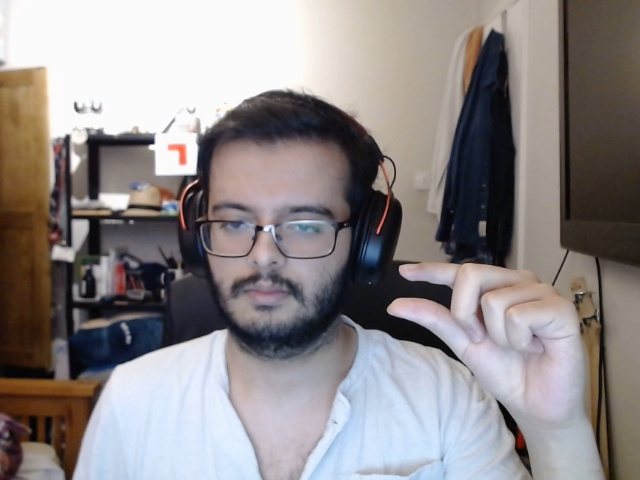Small: (383, 251, 595, 432)
